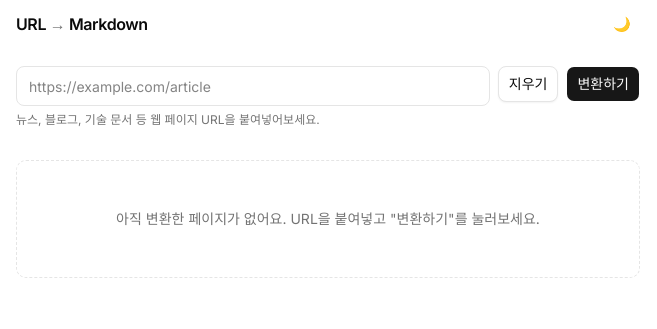
Scenario: Home › clears a stale result when a later submission is an invalid URL
The width and height of the screenshot is (657, 329).
Type "https://example.com/a" into the field named "웹 페이지 URL" at (253,86), box x1=16 y1=66 x2=490 y2=106
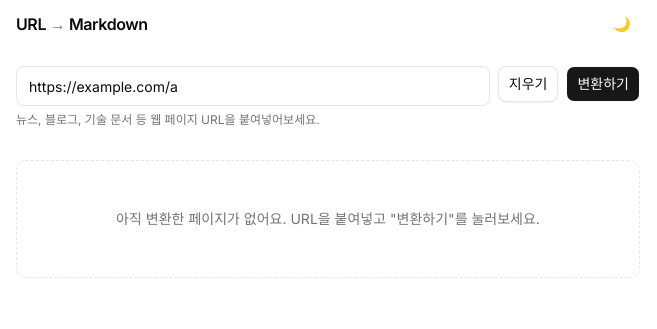
Click the button "변환하기" at (603,84), box x1=566 y1=66 x2=640 y2=102
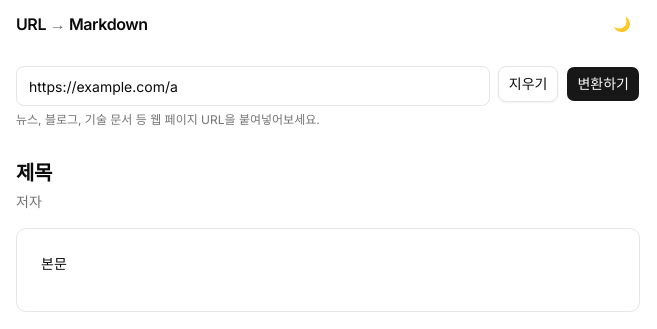
Expected: the heading "제목" is shown, x1=16 y1=161 x2=52 y2=185
Replace the text in the field named "웹 페이지 URL" with "그냥 아무 텍스트" at (253,86), box x1=16 y1=66 x2=490 y2=106
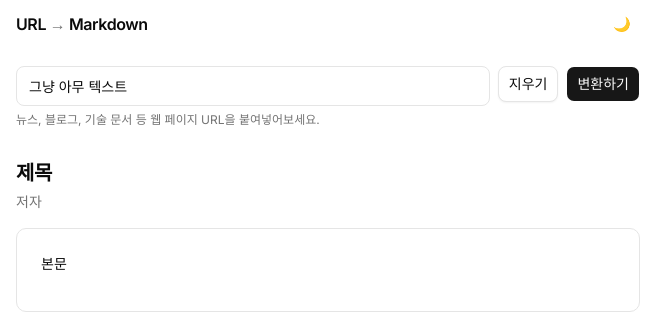
Click the button "변환하기" at (603,84), box x1=566 y1=66 x2=640 y2=102
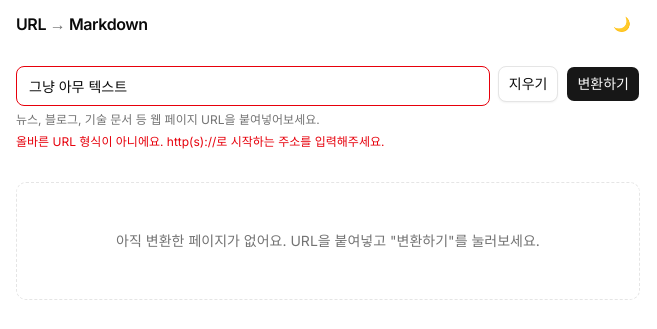
Expected: the text "올바른 URL 형식이 아니에요. http(s)://로 시작하는 주소를 입력해주세요." is shown, x1=16 y1=134 x2=384 y2=149
Expected: the heading "제목" is gone
